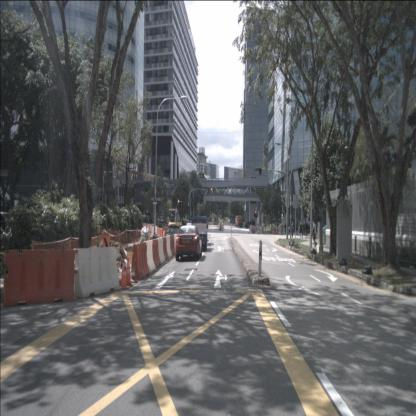barrier: (3, 249, 74, 306), (74, 247, 120, 298), (134, 242, 150, 280), (144, 240, 156, 274), (152, 239, 161, 269), (156, 237, 165, 264), (165, 235, 173, 259), (162, 236, 168, 260), (156, 227, 164, 245), (170, 235, 176, 256), (174, 234, 179, 253), (152, 225, 158, 240), (278, 227, 286, 234), (254, 226, 262, 233), (273, 226, 279, 234), (249, 225, 255, 232), (251, 224, 255, 234)
cone: (120, 258, 130, 290), (128, 254, 138, 283), (125, 258, 133, 286), (164, 229, 167, 240)
